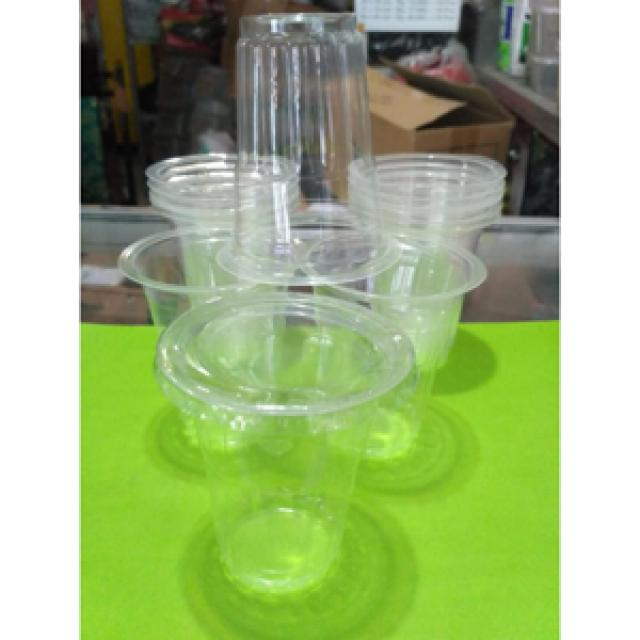plastic cup: (149, 288, 427, 606), (209, 8, 408, 296), (303, 224, 493, 476), (111, 222, 301, 459)
